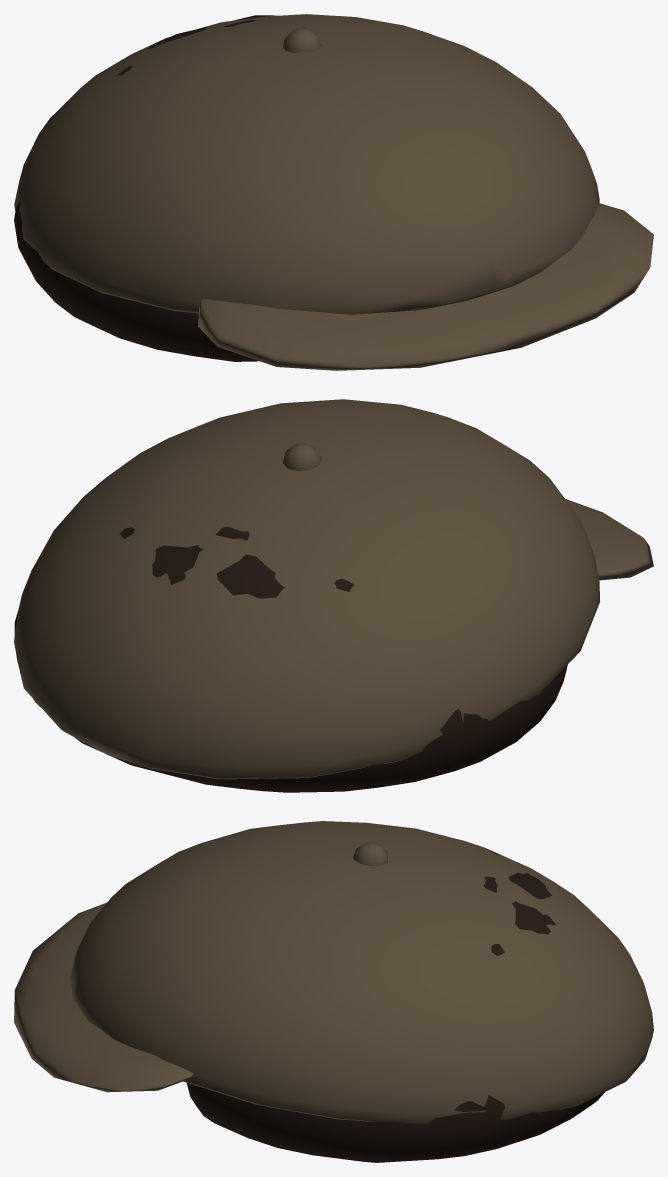
Rendered from outfit_market.glb.
3 renders of one model, top to bottom at view 1: azimuth 30°, elevation 25°; view 2: azimuth 150°, elevation 25°; view 3: azimuth 270°, elevation 25°, orthographic. The views are drawn at different scales.
Parts seen in each view (by area): view 1: outfit_market, outfit_market_hair_f; view 2: outfit_market, outfit_market_hair_f; view 3: outfit_market, outfit_market_hair_f.
Part boxes in pixels (left/top/right/bottom): outfit_market: left=14, top=14, right=653, bottom=370; outfit_market_hair_f: left=14, top=15, right=276, bottom=361; outfit_market: left=14, top=399, right=653, bottom=779; outfit_market_hair_f: left=14, top=526, right=567, bottom=792; outfit_market: left=14, top=821, right=653, bottom=1124; outfit_market_hair_f: left=187, top=851, right=604, bottom=1162.
Bounding box in the file's own units: 0.4074 × 0.1962 × 0.4988.
